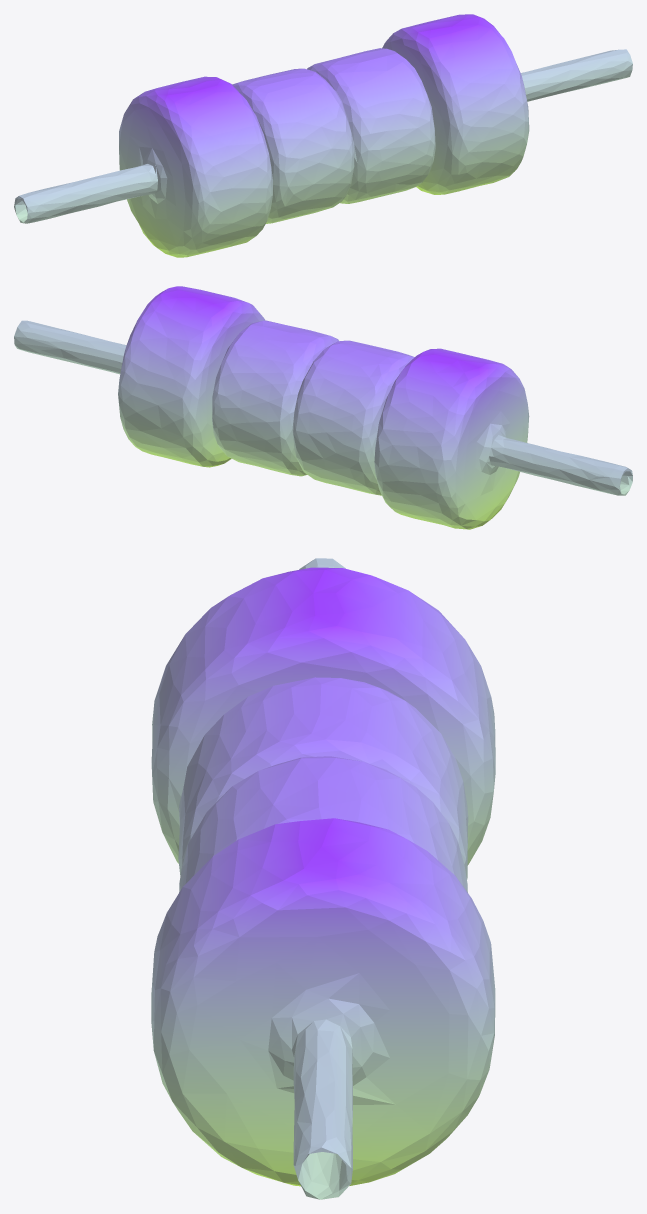
The model's file is 79_cyb_laser_gradient_fish_scales_2814_2026_10_03_4e6c98.glb.
3 views of the same model, one above another, from view 1: azimuth 30°, elevation 25°; view 2: azimuth 150°, elevation 25°; view 3: azimuth 270°, elevation 25° (orthographic). The views are drawn at different scales.
Parts seen in each view (by area): view 1: geometry_0; view 2: geometry_0; view 3: geometry_0.
Part boxes in pixels (bbox=[...]): geometry_0: bbox=[14, 14, 632, 257]; geometry_0: bbox=[14, 286, 632, 529]; geometry_0: bbox=[151, 558, 495, 1199].
Bounding box in the file's own units: 1 × 0.2473 × 0.2469.
